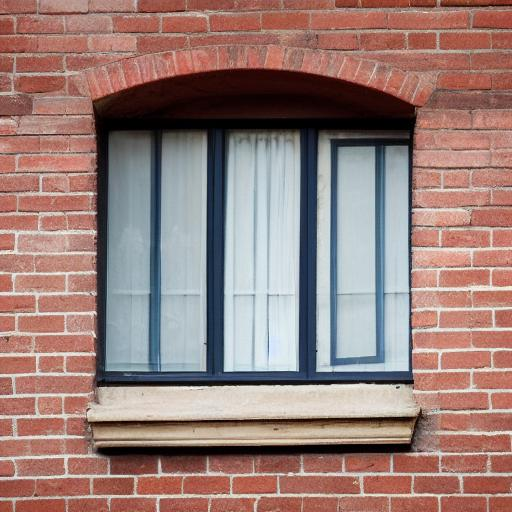Window: (83, 46, 437, 454)
